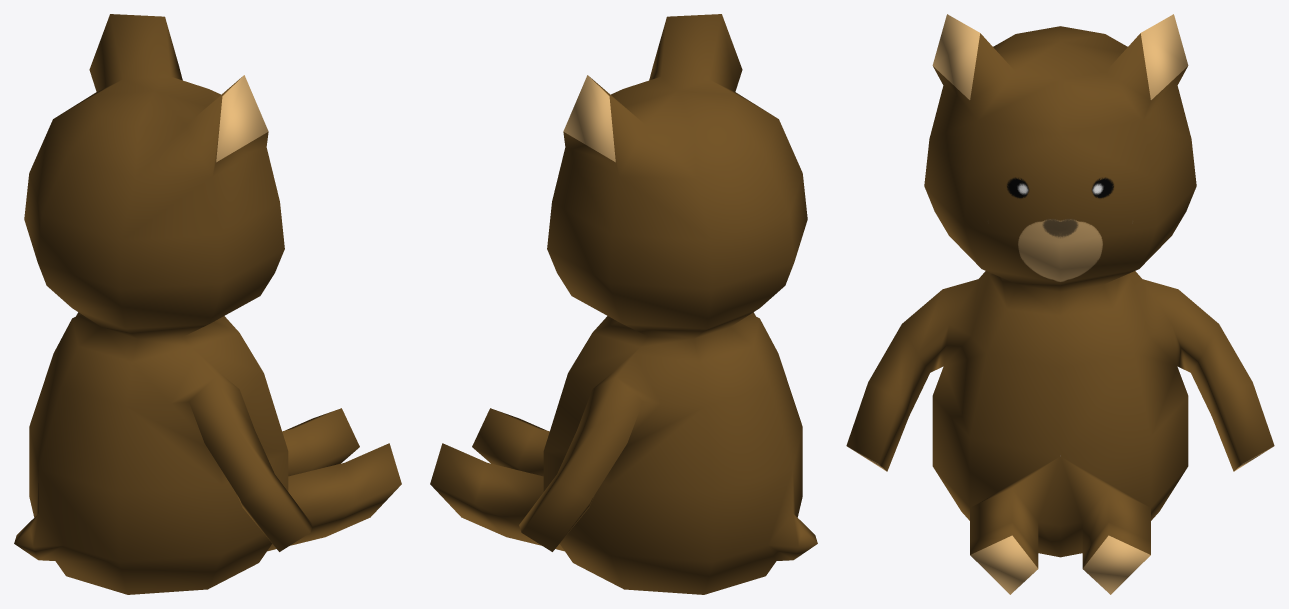
The model's file is teddy.fbx.
3 views of the same model, side by side, from view 1: azimuth 30°, elevation 25°; view 2: azimuth 150°, elevation 25°; view 3: azimuth 270°, elevation 25° (orthographic).
Parts seen in each view (by area): view 1: Sphere; view 2: Sphere; view 3: Sphere.
Part boxes in pixels (<box>): Sphere: <box>14,14,401,594</box>; Sphere: <box>430,14,817,594</box>; Sphere: <box>846,14,1274,594</box>.
Size of the model in its own units: 251 by 334 by 259.
